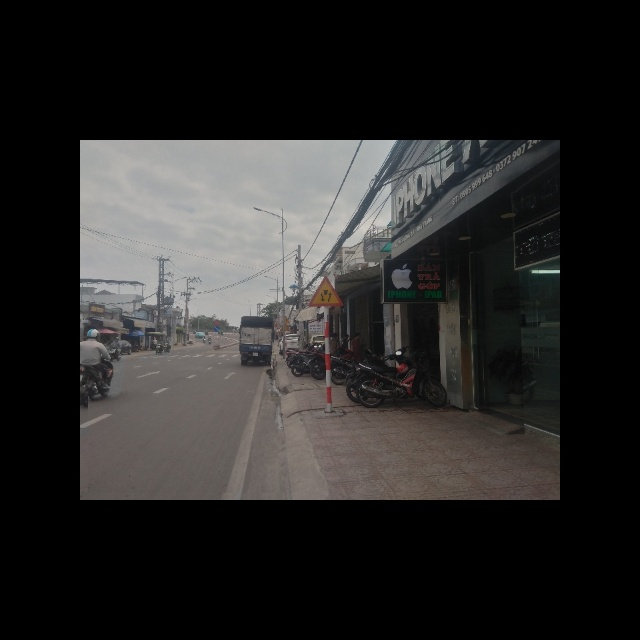Đường đôi: (308, 276, 344, 308)
